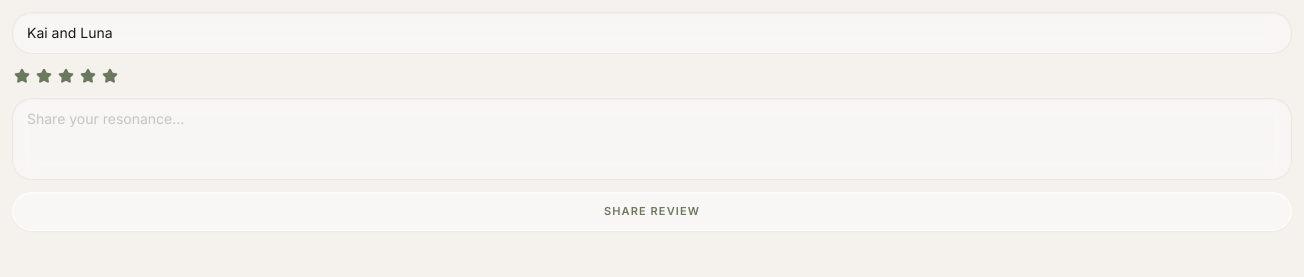
Test: ReviewForm UI validation › shows an error when the review text is shorter than 10 characters
The width and height of the screenshot is (1304, 277).
Type "too short" into the text box with placeholder "Share your resonance...". click: [652, 139]
box: [12,98,1292,180]
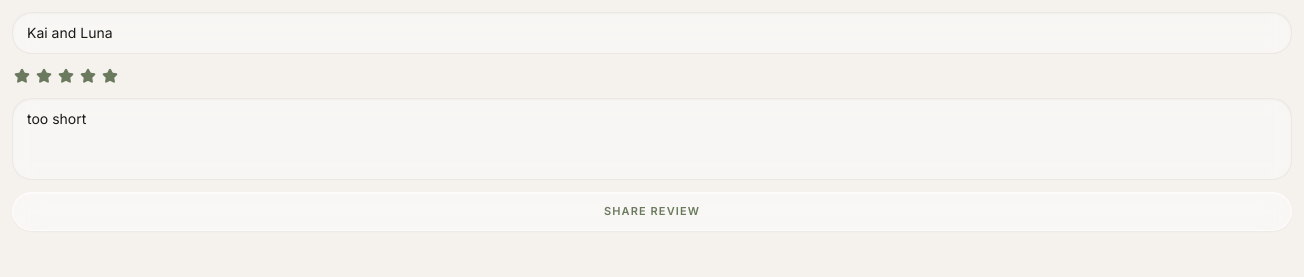
Click the button "Share Review". click: [652, 211]
box: [12,192,1292,230]
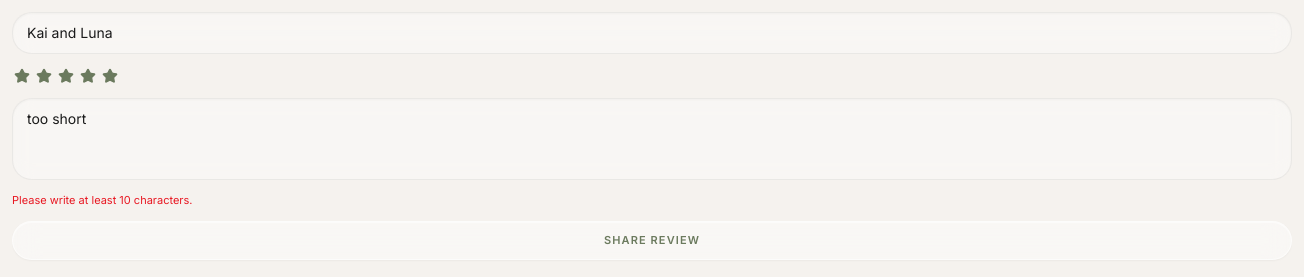
Expected: the text "Please write at least 10 characters." is shown, [12,193,192,207]
